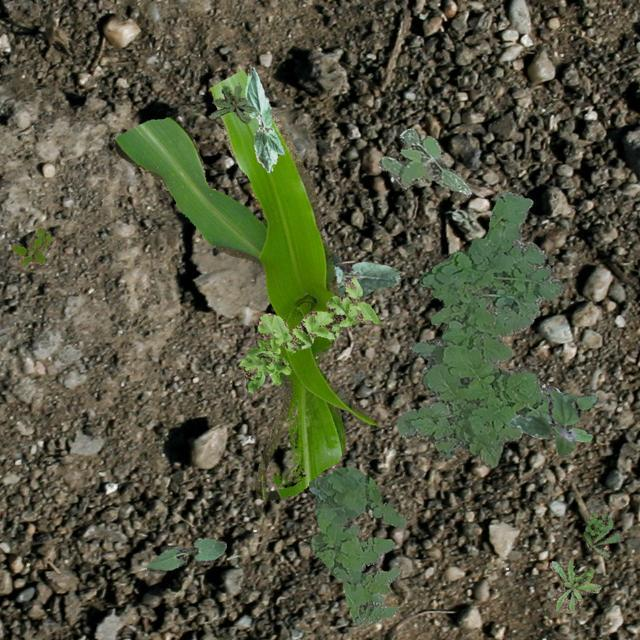crop: (112, 69, 376, 498), (244, 66, 284, 172), (330, 252, 400, 298), (146, 536, 226, 570)
weed: (396, 190, 580, 467), (238, 276, 380, 390), (308, 466, 406, 624), (506, 384, 596, 456), (378, 126, 470, 196), (548, 558, 600, 612), (582, 512, 618, 558), (208, 85, 252, 122), (12, 227, 50, 266)
